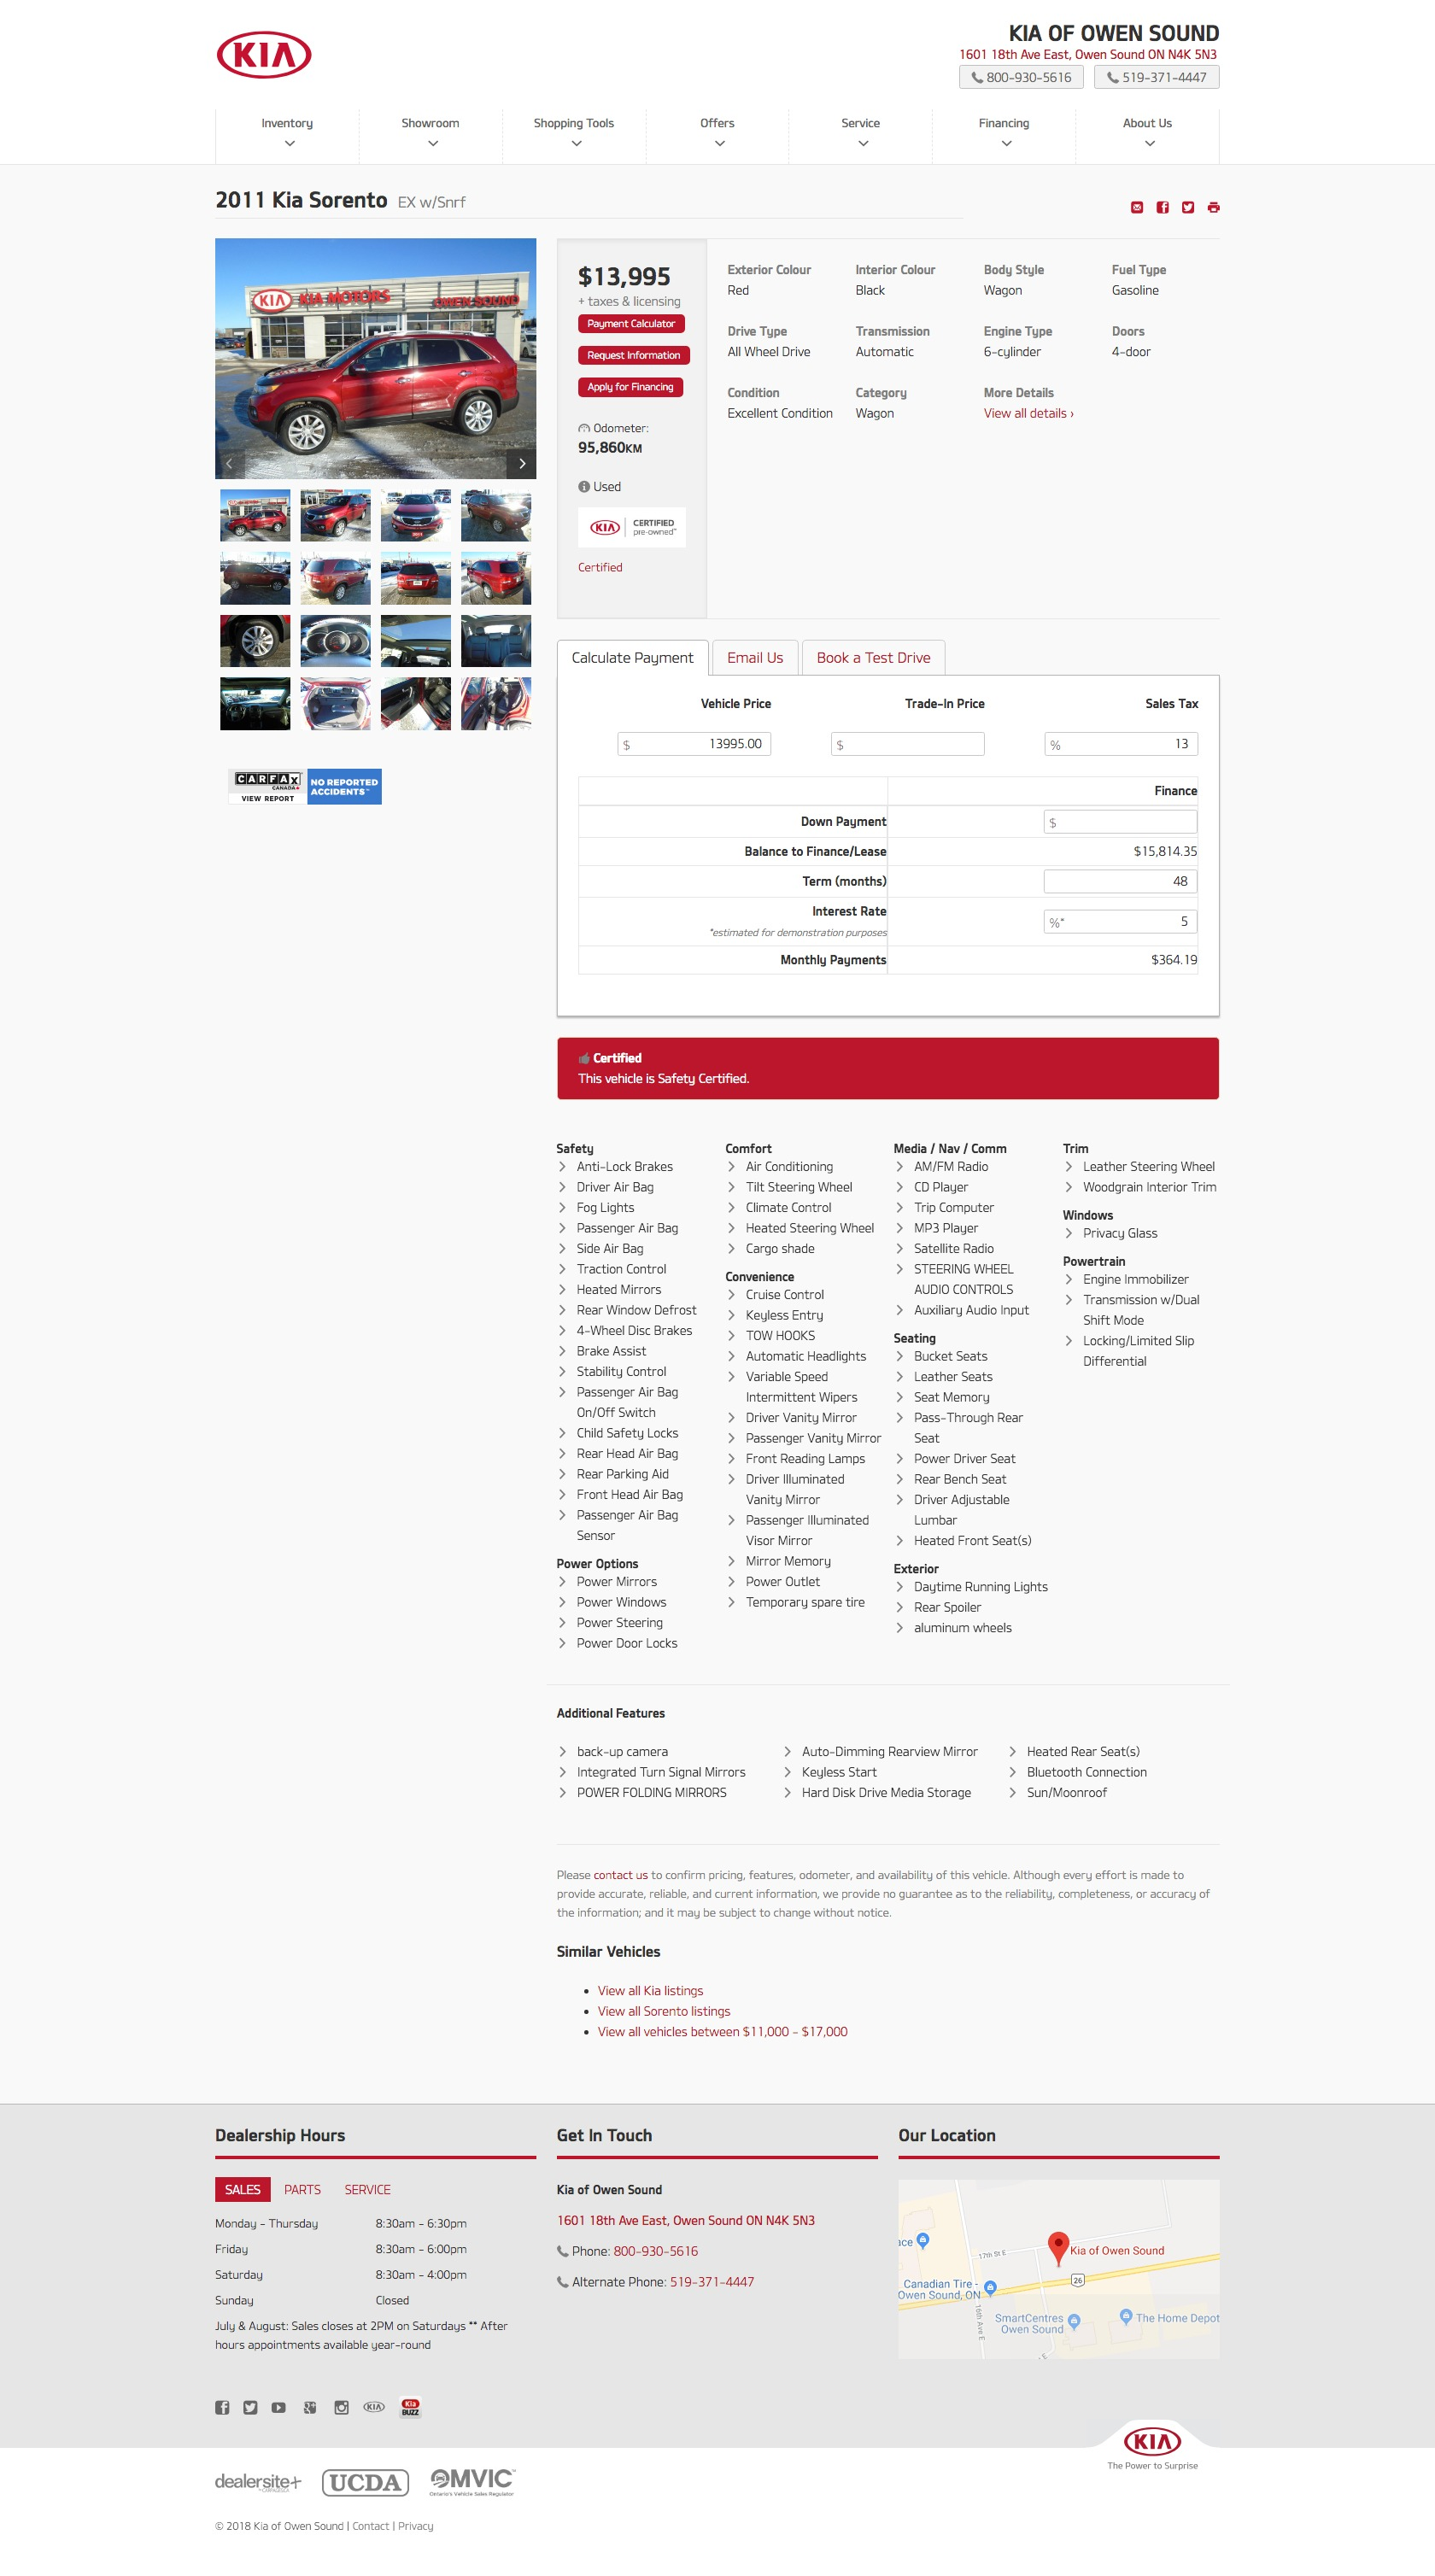car: (505, 447, 539, 482)
